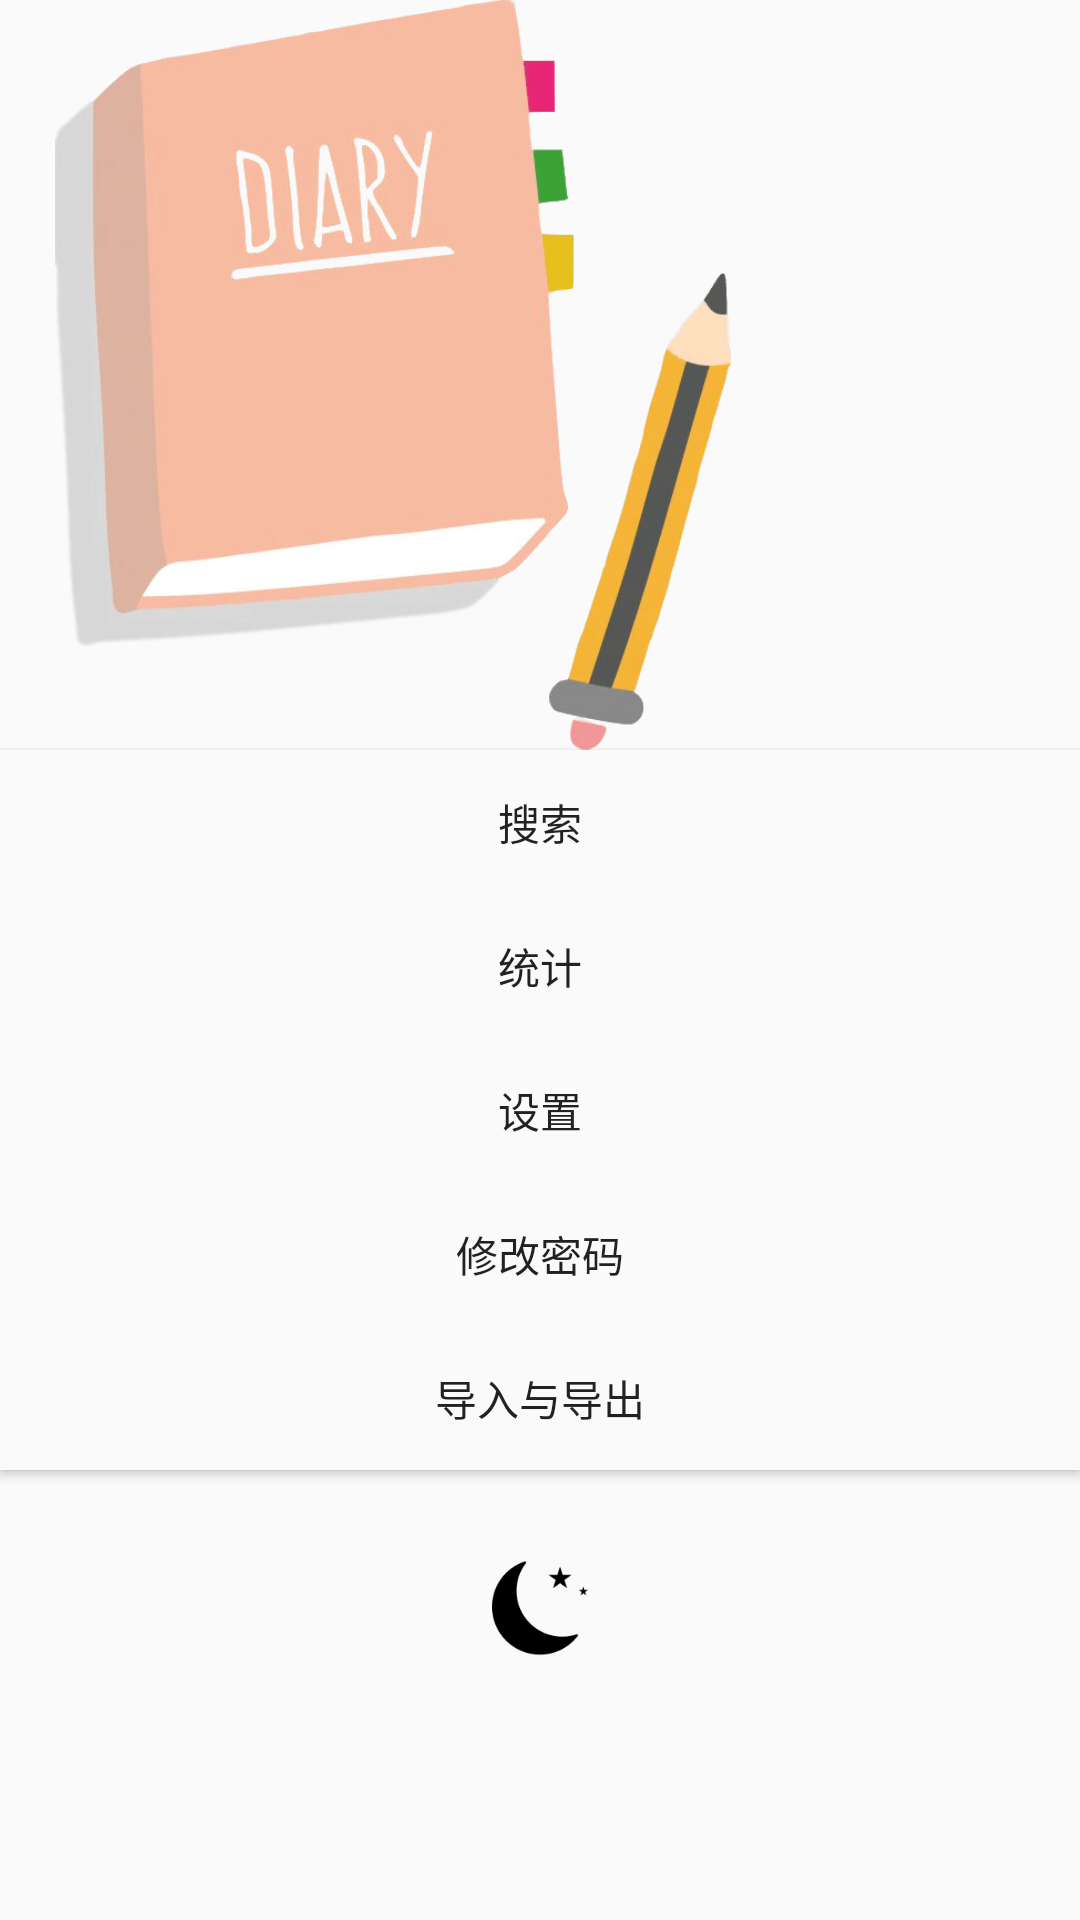

Point at icon controls on the screen. Image size 1080*1920, points as (x=x, y=y).
daynight: (x=540, y=1608)
